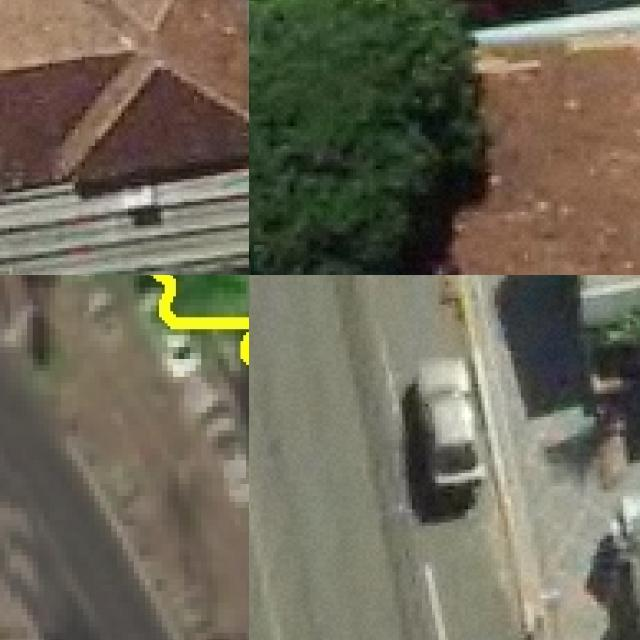trees: (250, 1, 483, 276)
